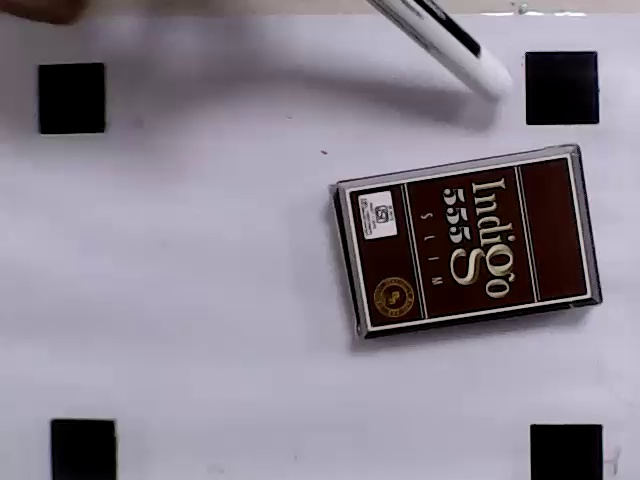BEX: (347, 156, 588, 329)
